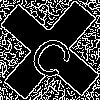C: (25, 25, 83, 84)
